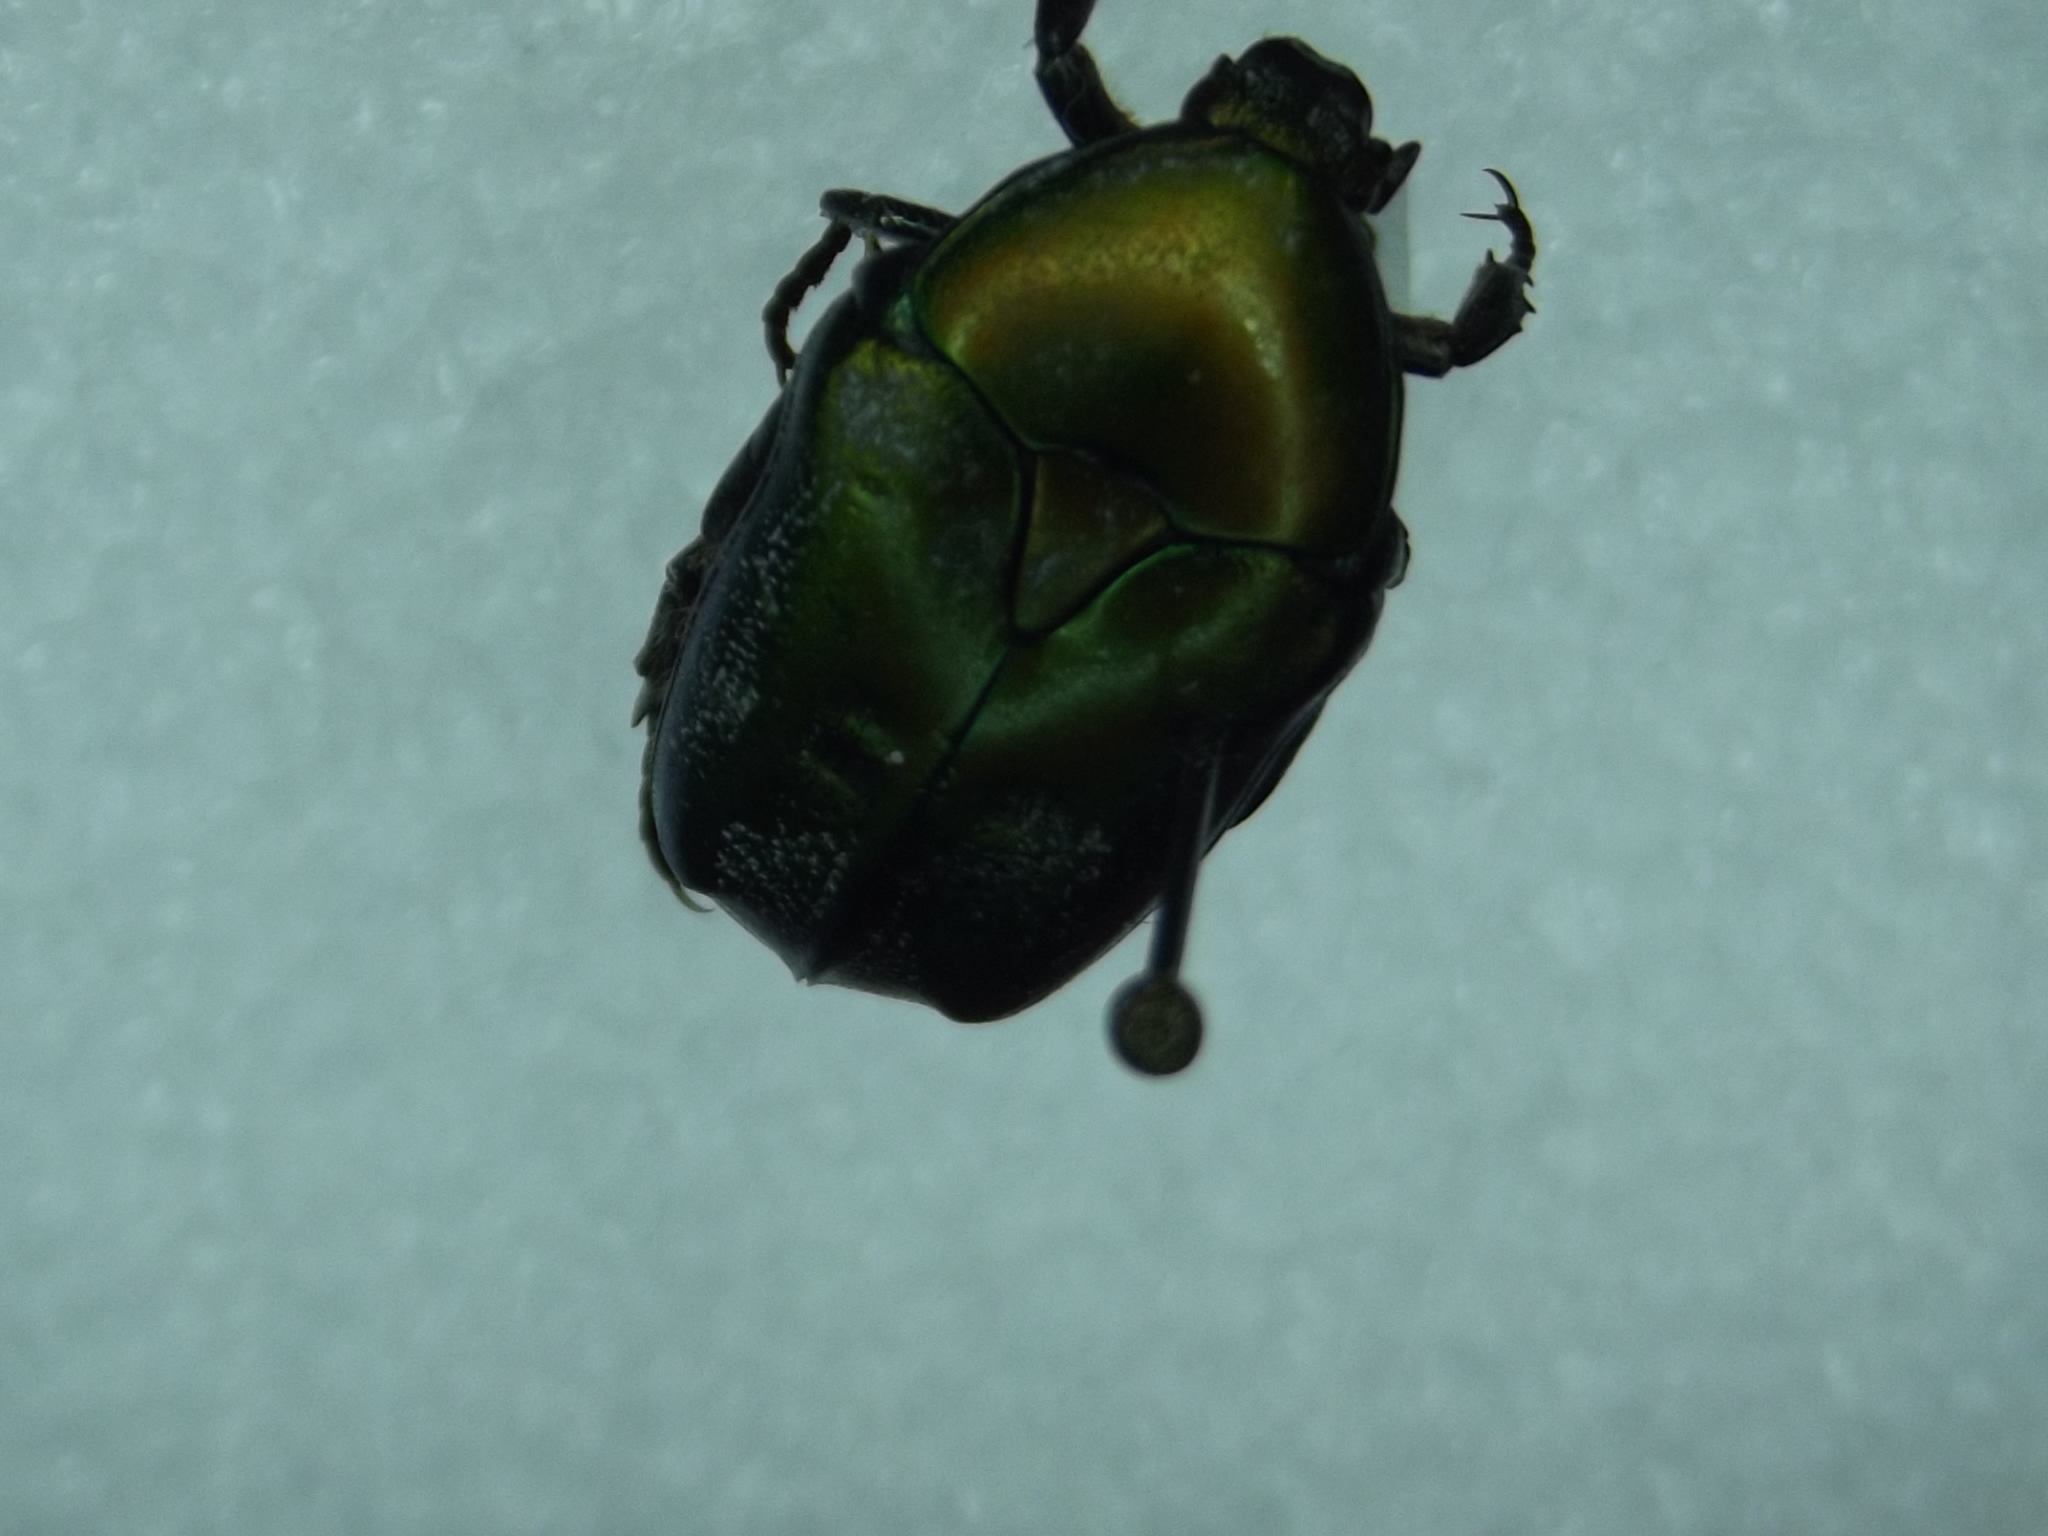Protaetia_cuprea_ignicollis: (593, 2, 1564, 1050)
